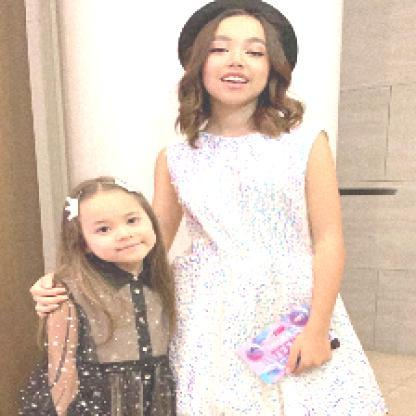child: (16, 178, 176, 416)
